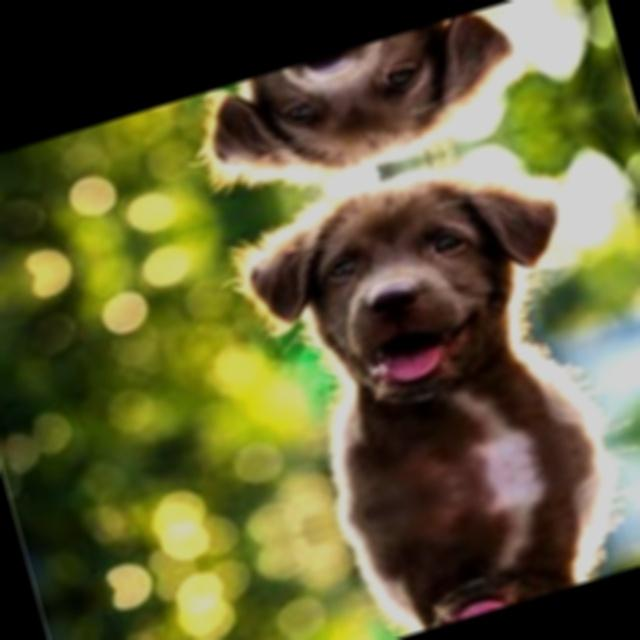dog: (217, 127, 610, 496), (182, 4, 534, 220), (313, 476, 640, 640)
